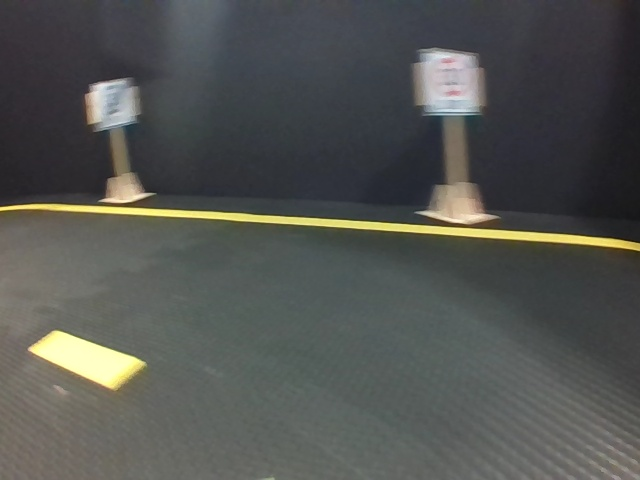30: (426, 50, 477, 115)
no30: (92, 83, 135, 125)
